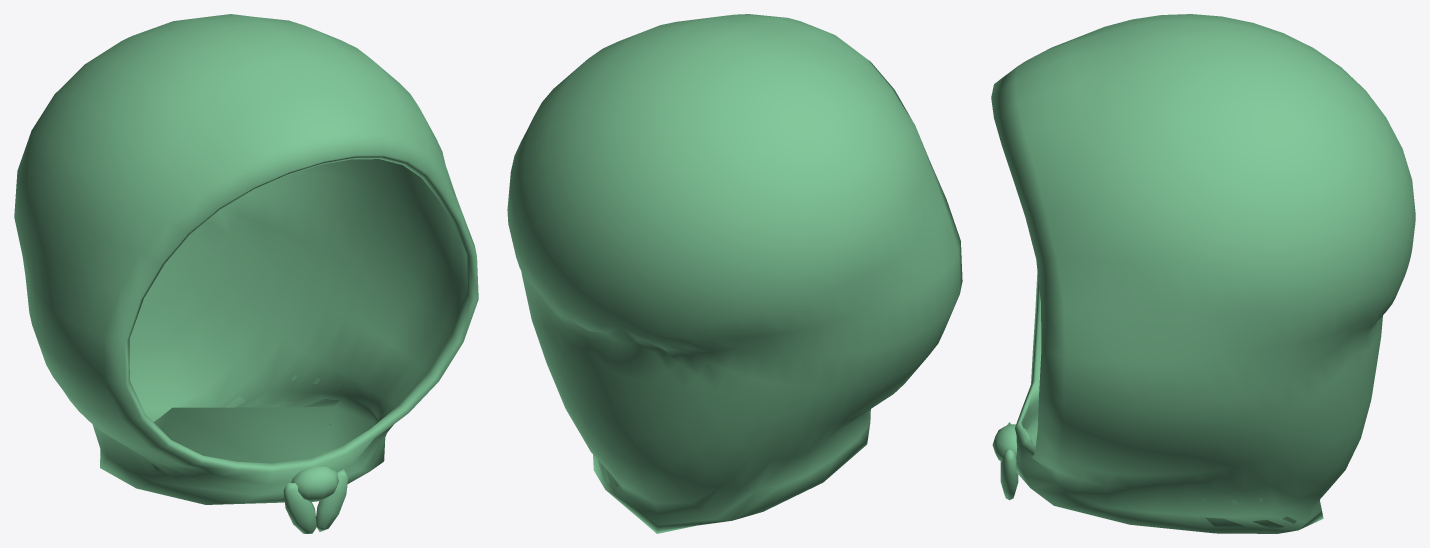
File: gorro_panoleta.glb
3 renders of one model, left to right at view 1: azimuth 30°, elevation 25°; view 2: azimuth 150°, elevation 25°; view 3: azimuth 270°, elevation 25°, orthographic. The views are drawn at different scales.
Parts seen in each view (by area): view 1: pieza; view 2: pieza; view 3: pieza.
Boxes of the visible parts, box(x1,y1,x2,y2) form: pieza: box(14, 14, 478, 533); pieza: box(507, 14, 962, 533); pieza: box(991, 14, 1415, 533).
Size of the model in its own units: 1.12 by 1.24 by 0.997.
